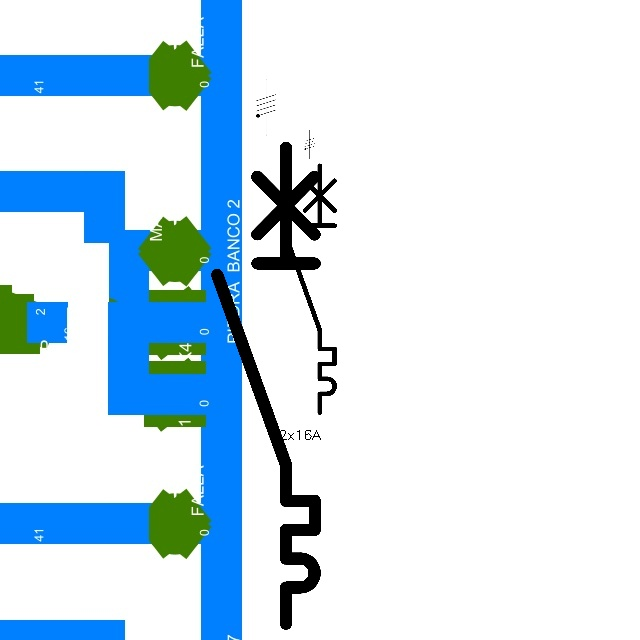interruptor_termomagnetico: (205, 135, 327, 636), (278, 159, 341, 419)
